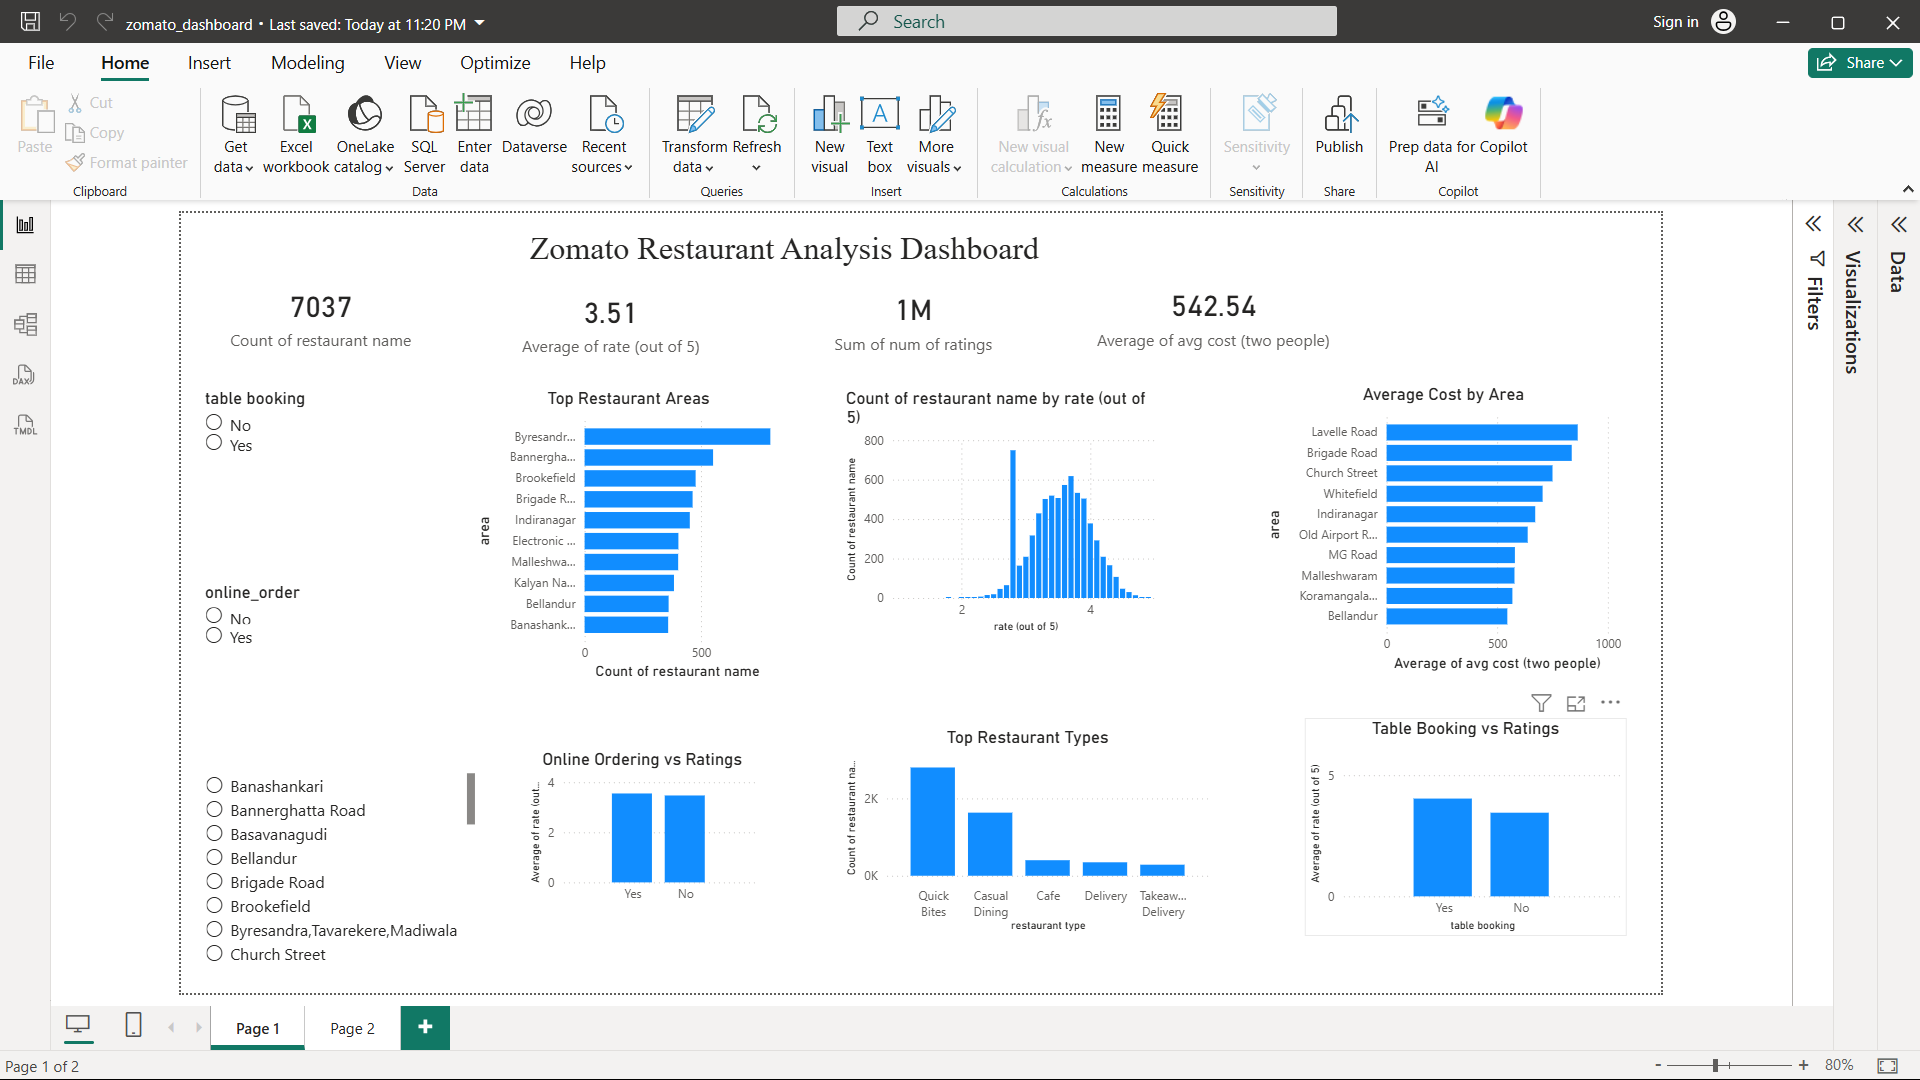

The dashboard page shown, as its layout file describes it:
{"tool":"powerbi","page":{"name":"Page 1","canvas":[1480,780],"ordinal":0},"visuals":[{"type":"card","fields":{"Values":["CountNonNull(cleaned_zomato_data.restaurant name)"]},"box":[0,32,280,140],"z":0},{"type":"card","fields":{"Values":["Avg(cleaned_zomato_data.rate (out of 5))"]},"box":[290,55,280,107.5],"z":1000},{"type":"card","fields":{"Values":["Avg(cleaned_zomato_data.avg cost (two people))"]},"box":[892.5,45,280,115],"z":2000},{"type":"card","fields":{"Values":["Sum(cleaned_zomato_data.num of ratings)"]},"box":[592.5,52.5,280,107.5],"z":3000},{"type":"clusteredBarChart","title":"Top Restaurant Areas","fields":{"Category":["cleaned_zomato_data.area"],"Y":["CountNonNull(cleaned_zomato_data.restaurant name)"]},"box":[290,175,315,296.7],"z":4000},{"type":"clusteredColumnChart","title":"Top Restaurant Types","fields":{"Category":["cleaned_zomato_data.restaurant type"],"Y":["CountNonNull(cleaned_zomato_data.restaurant name)"]},"box":[660,513.3,373.3,210],"z":5000},{"type":"clusteredColumnChart","fields":{"Category":["cleaned_zomato_data.rate (out of 5)"],"Y":["CountNonNull(cleaned_zomato_data.restaurant name)"]},"box":[660,175,323.3,250],"z":6000},{"type":"listSlicer","fields":{"Values":["cleaned_zomato_data.area"]},"box":[18.3,536.7,280,225],"z":7000},{"type":"listSlicer","fields":{"Values":["cleaned_zomato_data.online_order"]},"box":[18.3,368.3,158.3,186.7],"z":8000},{"type":"listSlicer","fields":{"Values":["cleaned_zomato_data.table booking"]},"box":[18.3,175,175,195],"z":9000},{"type":"clusteredColumnChart","title":"Online Ordering vs Ratings","fields":{"Category":["cleaned_zomato_data.online_order"],"Y":["Avg(cleaned_zomato_data.rate (out of 5))"]},"box":[343.3,536.7,235,163.3],"z":10000},{"type":"clusteredColumnChart","title":"Table Booking vs Ratings","fields":{"Category":["cleaned_zomato_data.table booking"],"Y":["Avg(cleaned_zomato_data.rate (out of 5))"]},"box":[1123.3,505,321.7,218.3],"z":11000},{"type":"clusteredBarChart","title":"Average Cost by Area","fields":{"Category":["cleaned_zomato_data.area"],"Y":["Avg(cleaned_zomato_data.avg cost (two people))"]},"box":[1080,171.7,365,291.7],"z":12000},{"type":"textbox","box":[343.3,11.7,590,66.7],"z":16000}]}

Visuals, with their boxes on the page's 1480x780 design canvas (x1, y1, x2, y2). These are canvas units, not pixel positions in the 1920x1080 screenshot, which may show the page scaled, cropped or inside an application window:
card - CountNonNull(cleaned_zomato_data.restaurant name): [0,32,280,172]
card - Avg(cleaned_zomato_data.rate (out of 5)): [290,55,570,162]
card - Avg(cleaned_zomato_data.avg cost (two people)): [892,45,1172,160]
card - Sum(cleaned_zomato_data.num of ratings): [592,52,872,160]
"Top Restaurant Areas" clusteredBarChart: [290,175,605,472]
"Top Restaurant Types" clusteredColumnChart: [660,513,1033,723]
clusteredColumnChart - cleaned_zomato_data.rate (out of 5) x CountNonNull(cleaned_zomato_data.restaurant name): [660,175,983,425]
listSlicer - cleaned_zomato_data.area: [18,537,298,762]
listSlicer - cleaned_zomato_data.online_order: [18,368,177,555]
listSlicer - cleaned_zomato_data.table booking: [18,175,193,370]
"Online Ordering vs Ratings" clusteredColumnChart: [343,537,578,700]
"Table Booking vs Ratings" clusteredColumnChart: [1123,505,1445,723]
"Average Cost by Area" clusteredBarChart: [1080,172,1445,463]
textbox: [343,12,933,78]
